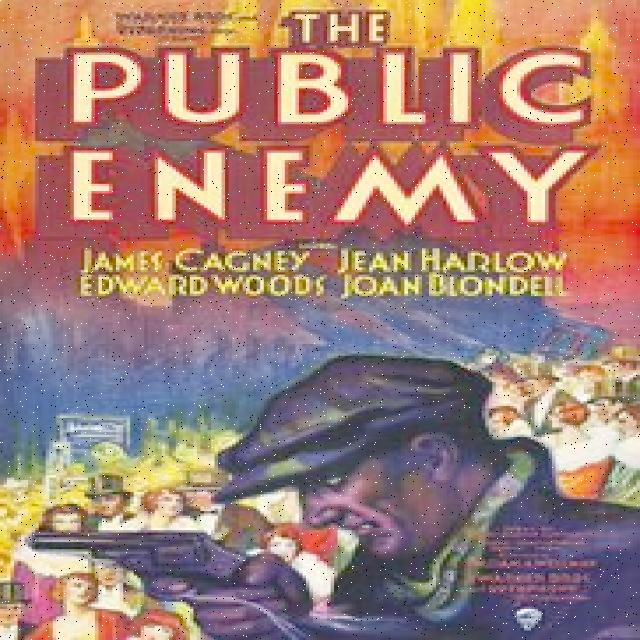movie-judul: (49, 11, 603, 232)
picture: (14, 334, 637, 640)
